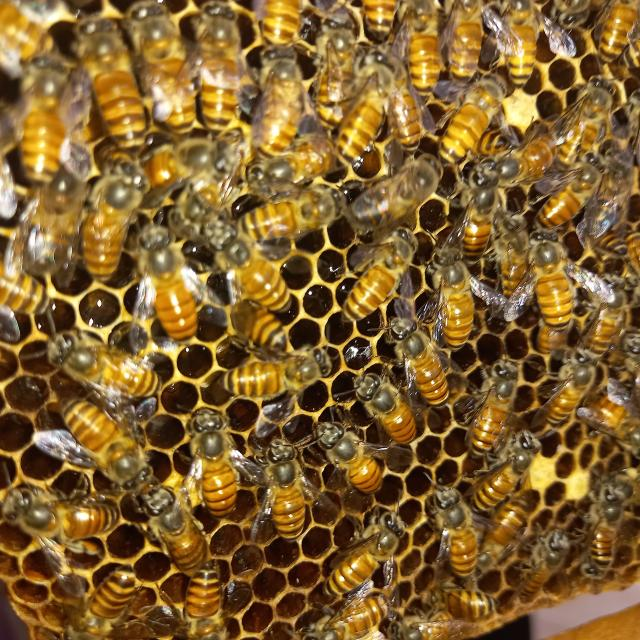honeybee: (10, 478, 126, 551), (56, 398, 154, 484), (82, 17, 142, 155), (134, 1, 194, 134), (223, 349, 354, 407), (28, 151, 88, 277), (19, 55, 70, 181), (342, 226, 406, 326), (335, 51, 390, 163), (351, 157, 442, 223), (144, 224, 202, 327), (94, 162, 142, 286), (195, 2, 239, 136), (252, 434, 310, 532), (183, 403, 239, 504), (344, 501, 405, 592), (445, 69, 506, 160), (61, 333, 161, 388), (252, 48, 304, 152), (239, 186, 337, 240), (406, 308, 456, 412), (320, 413, 376, 500), (314, 12, 360, 116), (296, 585, 384, 638), (358, 376, 412, 461), (428, 245, 478, 334), (241, 136, 331, 184), (153, 484, 204, 568), (86, 563, 139, 640), (462, 360, 511, 443), (564, 82, 616, 159), (483, 438, 534, 516), (483, 126, 562, 176), (535, 236, 577, 327), (499, 0, 540, 91), (146, 137, 220, 187), (405, 0, 444, 90), (428, 481, 467, 570), (518, 533, 565, 603), (443, 1, 483, 81), (452, 177, 494, 252), (232, 239, 282, 301), (539, 170, 589, 227), (188, 561, 224, 640), (414, 579, 492, 615), (496, 212, 532, 288), (596, 3, 640, 62), (550, 360, 588, 428), (385, 610, 471, 640), (233, 304, 290, 348), (256, 0, 305, 51), (589, 498, 621, 574), (0, 266, 49, 315), (598, 374, 633, 437), (490, 496, 530, 550), (365, 0, 399, 46), (535, 135, 535, 145)
